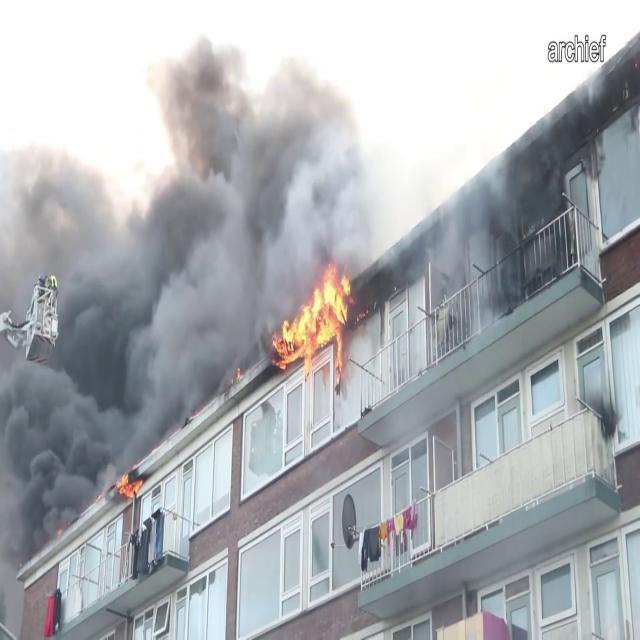Fire: (272, 265, 356, 379)
Smoke: (0, 0, 310, 428), (417, 58, 556, 323)
